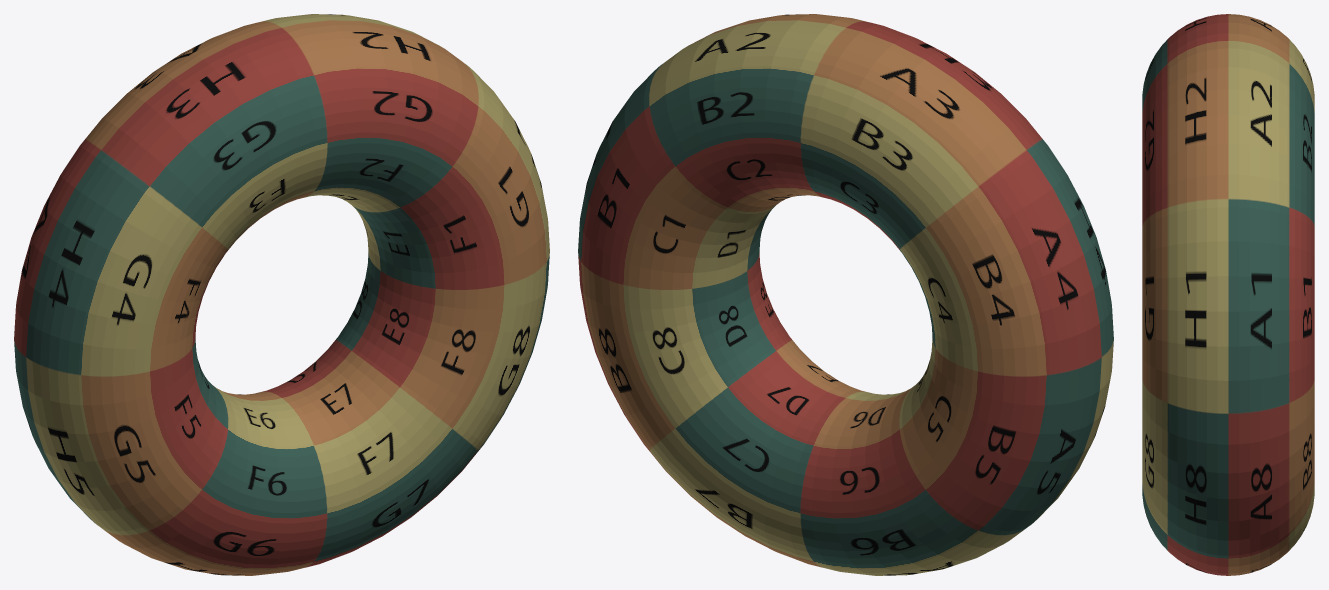
The model's file is texture_torus_R8_r18.glb.
The picture shows the model from 3 angles, left to right: view 1: azimuth 30°, elevation 25°; view 2: azimuth 150°, elevation 25°; view 3: azimuth 270°, elevation 25°; orthographic projection. The views are drawn at different scales.
Visible parts, largest first — view 1: world; view 2: world; view 3: world.
Boxes of the visible parts, <box> form: world: <box>14,14,549,575</box>; world: <box>578,14,1113,575</box>; world: <box>1142,14,1314,575</box>.
Size of the model in its own units: 22.13 by 22.09 by 6.79.
Materials: 1 (1 with a texture image).
